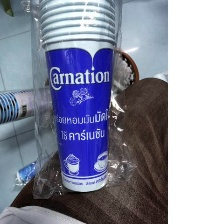paper_cup: (31, 0, 123, 197)
